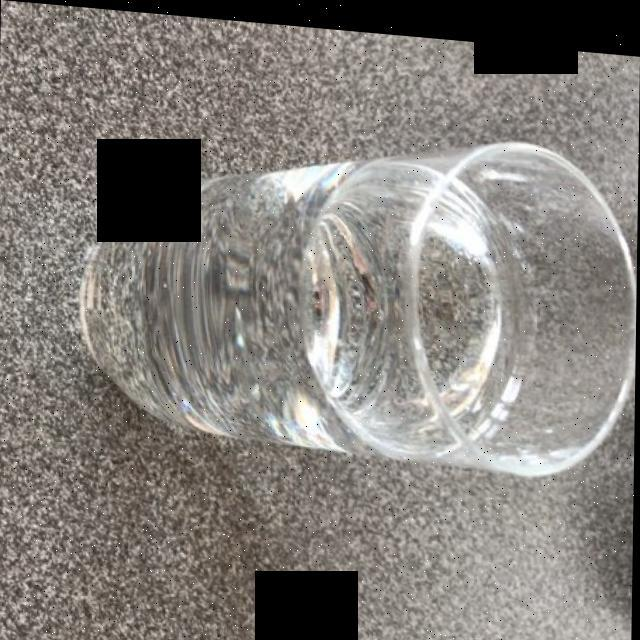water: (77, 183, 516, 453)
